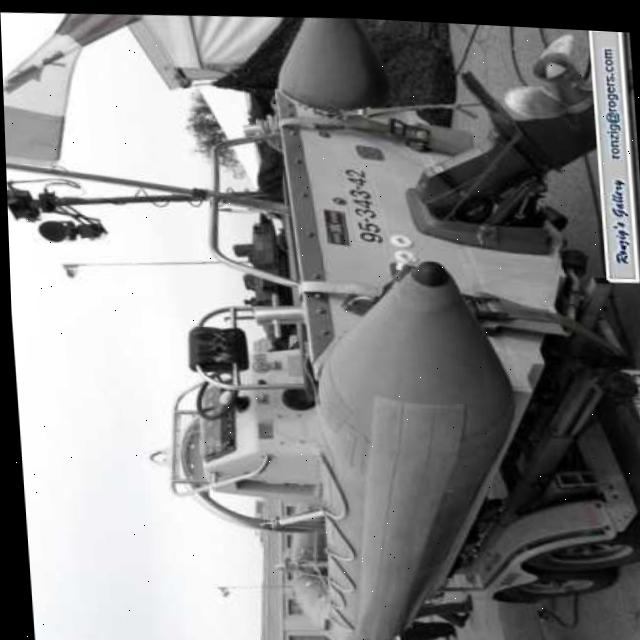missile: (279, 249, 526, 640)
